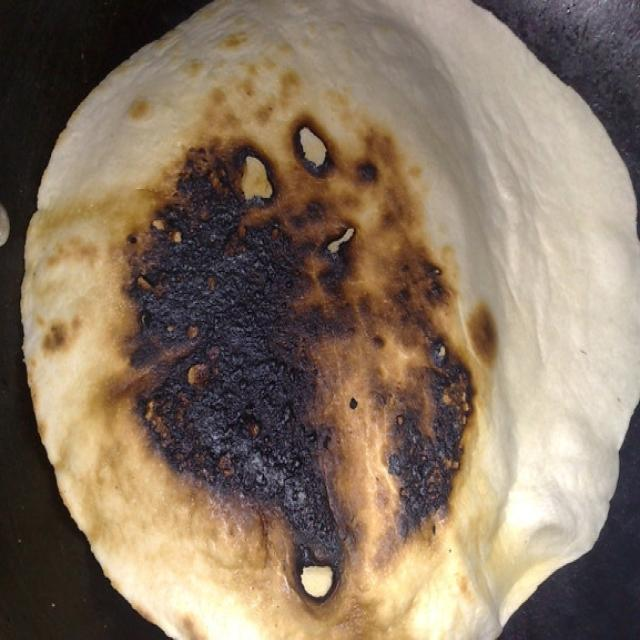面包点心: (46, 34, 611, 618)
